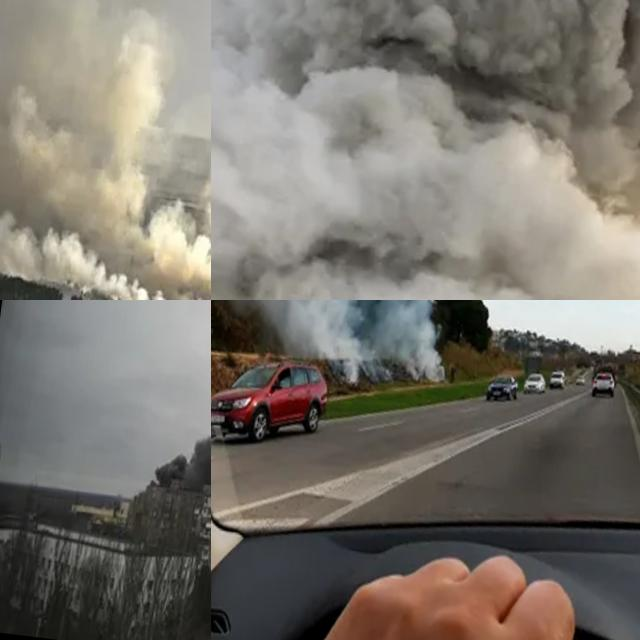smoke: (211, 0, 640, 300), (0, 0, 211, 300), (219, 300, 388, 390), (368, 300, 461, 386)
